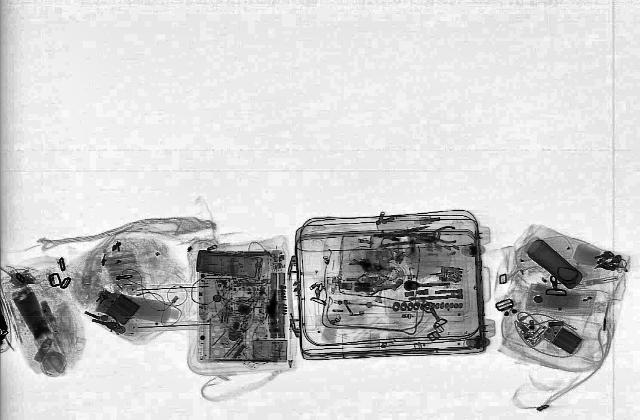Pliers: (406, 224, 458, 244)
